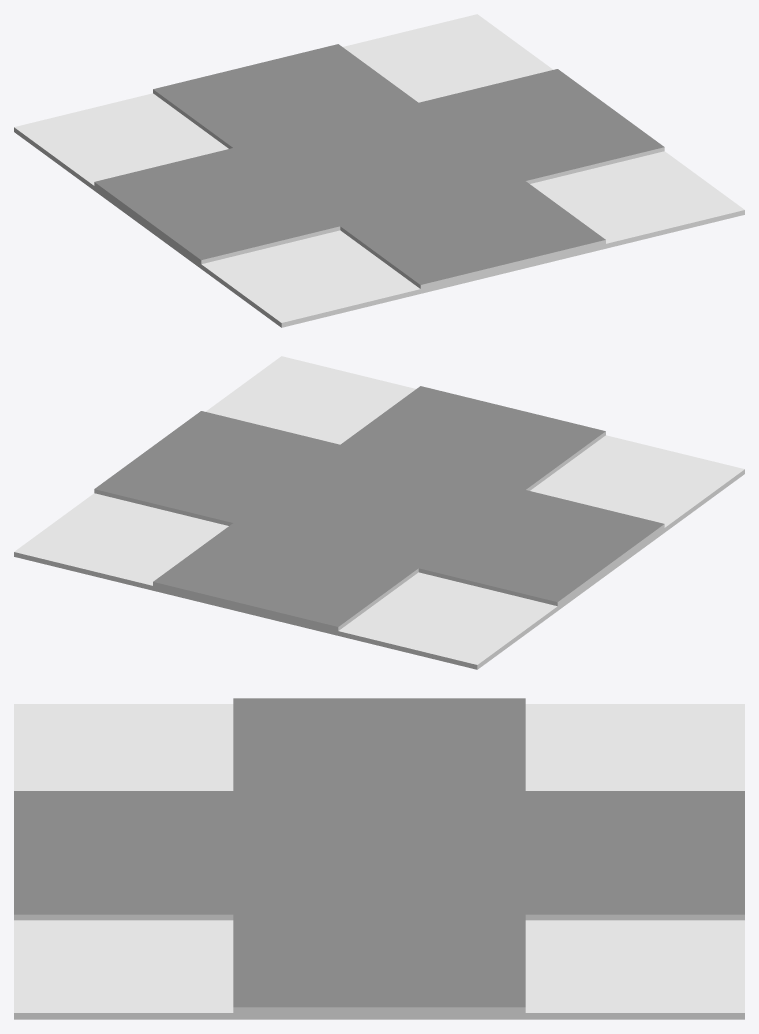
Rendered from road-pholder-4way.obj.
3 renders of one model, top to bottom at view 1: azimuth 30°, elevation 25°; view 2: azimuth 150°, elevation 25°; view 3: azimuth 270°, elevation 25°, orthographic. The views are drawn at different scales.
Visible parts, largest first — view 1: Cube.002; view 2: Cube.002; view 3: Cube.002.
Part boxes in pixels (box(x1,y1,x2,y2)): Cube.002: box(14, 14, 744, 327); Cube.002: box(14, 356, 744, 669); Cube.002: box(14, 698, 744, 1019).
Size of the model in its own units: 2 by 0.0367 by 2.
